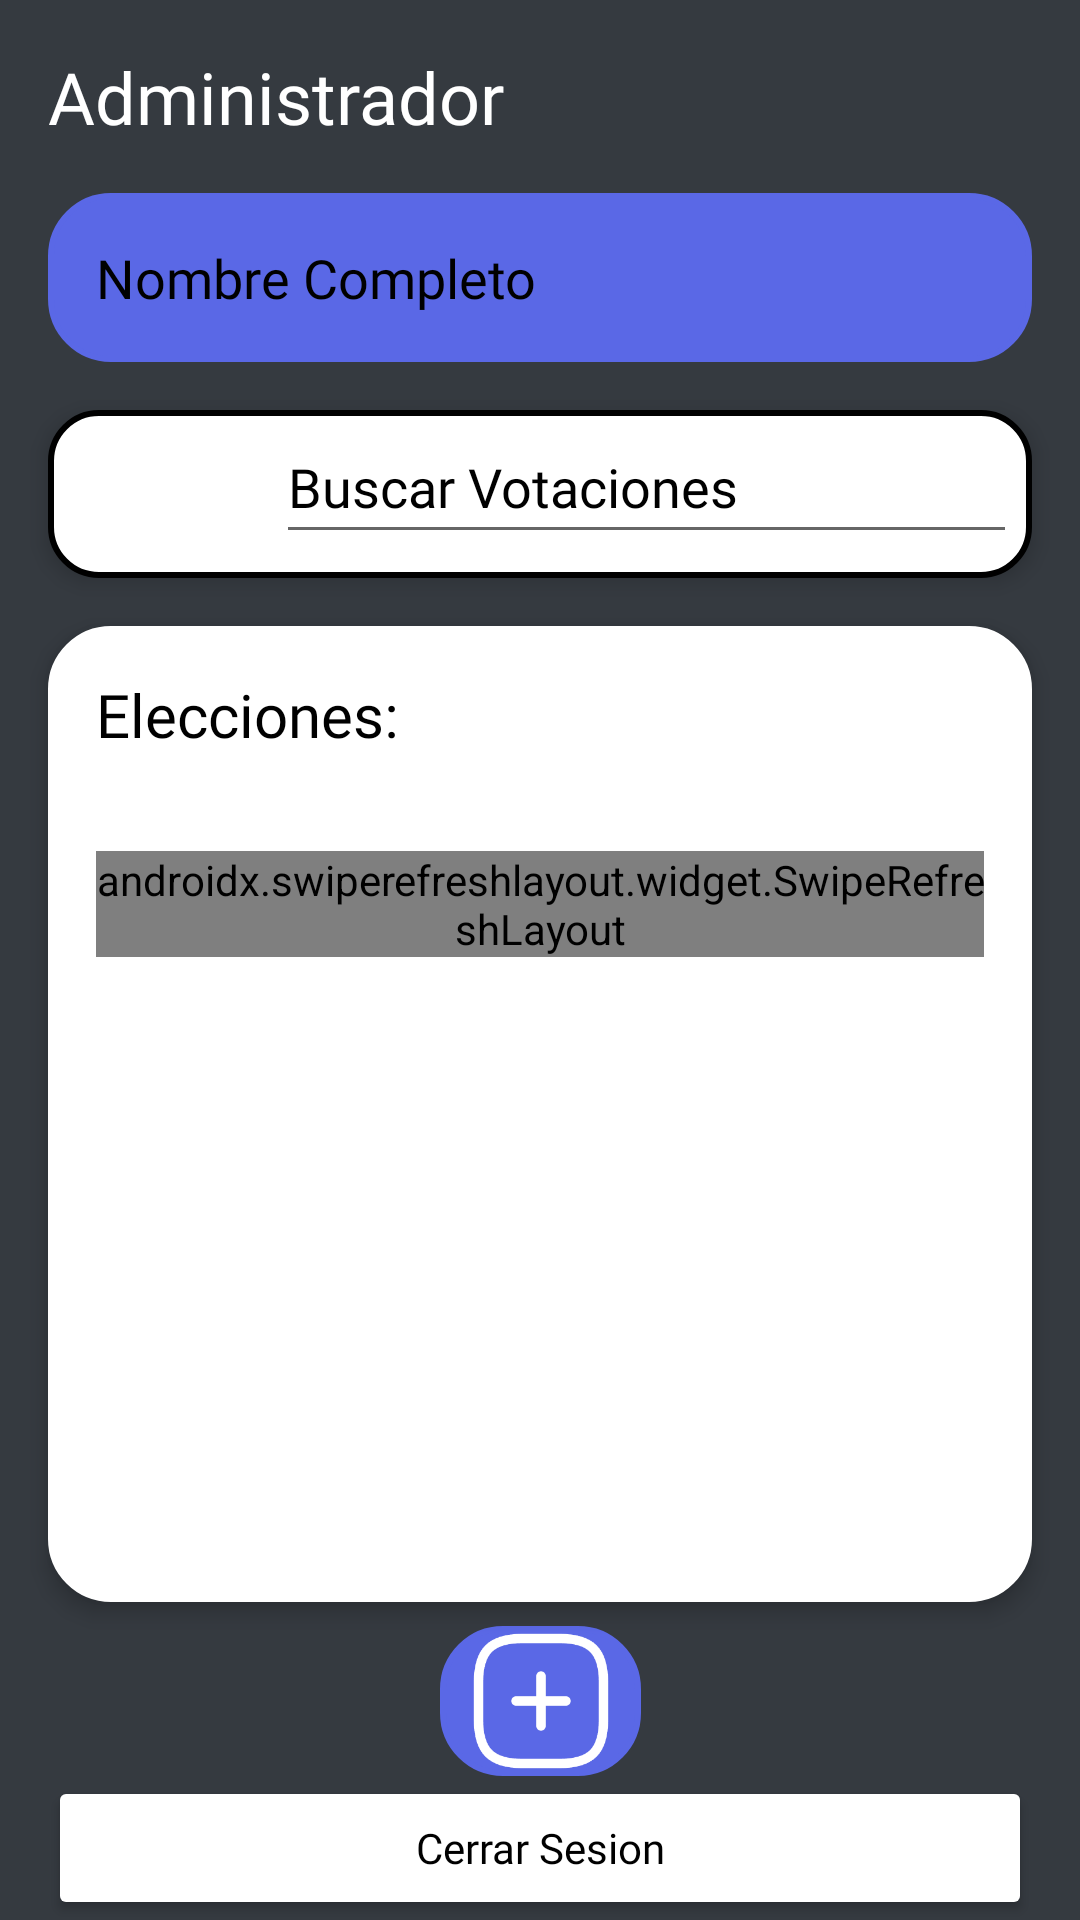

Icon click points for this 1080 × 1920 phone screenshot, format point (x, y):
Añadir nuevo elemento: point (540, 1701)
